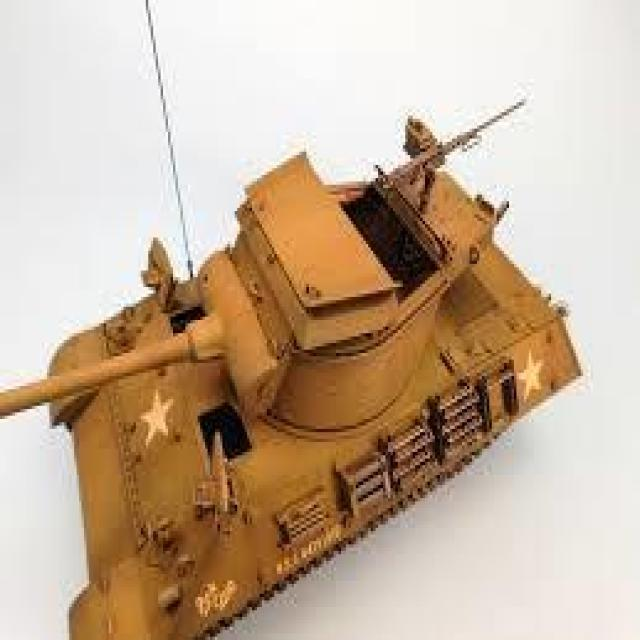Tanks: (42, 104, 583, 632)
